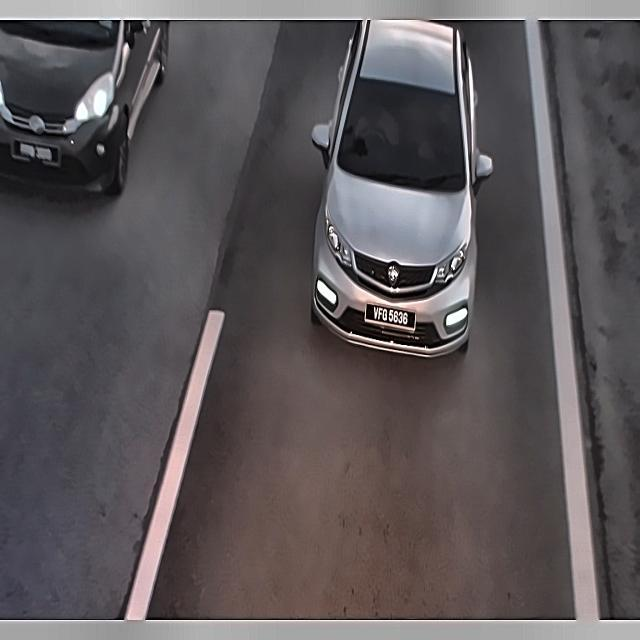car: (361, 292, 422, 341), (8, 132, 66, 175)
